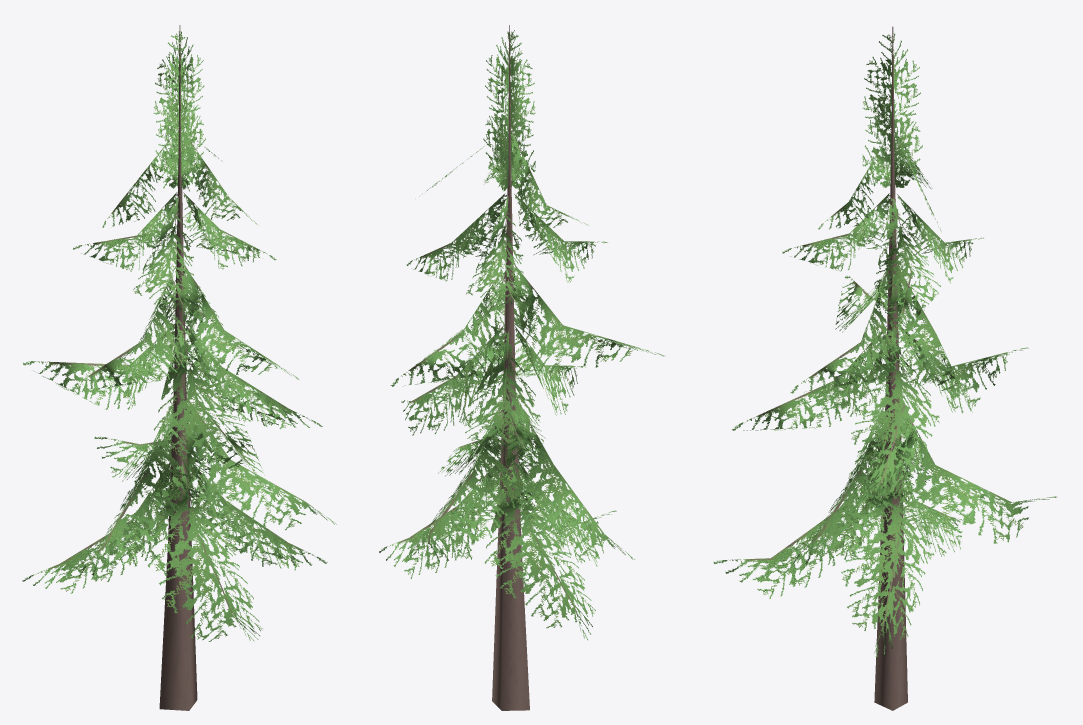
Rendered from tree_Pine_S1_LOD1.fbx.
The picture shows the model from 3 angles, left to right: view 1: azimuth 30°, elevation 25°; view 2: azimuth 150°, elevation 25°; view 3: azimuth 270°, elevation 25°; orthographic projection.
Parts seen in each view (by area): view 1: Pine_S1_LOD1; view 2: Pine_S1_LOD1; view 3: Pine_S1_LOD1.
Part boxes in pixels (x1,y1,x2,y2): Pine_S1_LOD1: [22, 25, 336, 710]; Pine_S1_LOD1: [379, 25, 665, 710]; Pine_S1_LOD1: [713, 26, 1057, 710].
Size of the model in its own units: 384 by 869 by 426.
